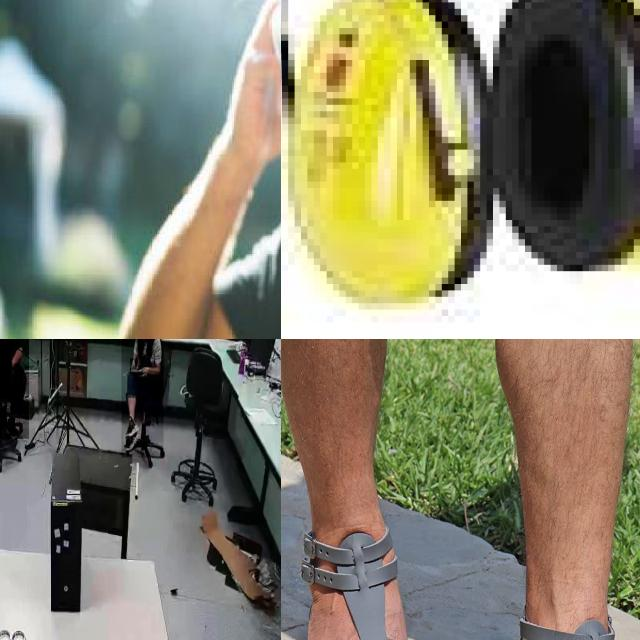Ear-protection: (281, 0, 486, 296), (486, 0, 640, 271)
Sandals: (294, 503, 427, 640)
hand_noglove: (138, 365, 148, 378), (130, 358, 138, 371)
person: (107, 0, 281, 339), (121, 339, 164, 458), (0, 339, 29, 439)
shoes: (6, 418, 22, 443), (124, 414, 140, 439), (124, 430, 138, 458)
